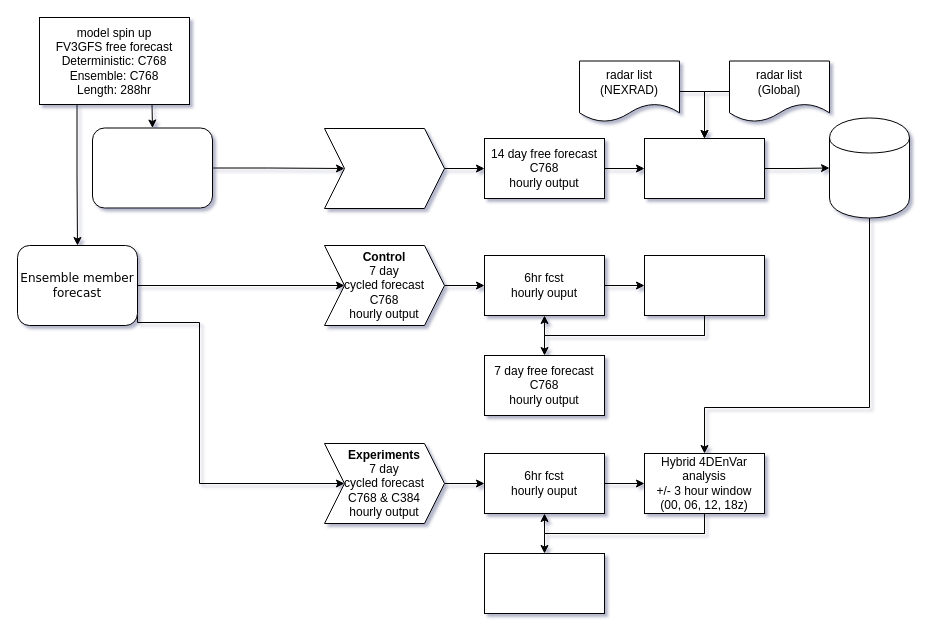
This 933x637 diagram has some shape labels left out. The shapes that lost their labels are listed below. From the top down, each one's centre as x and y in pixels, then its label:
[152,167]: Deterministic forecast
[384,168]: Nature (Truth) 14 day free forecast C768 hourly output
[704,168]: drwsim convert model out to observations
[869,167]: simulated radial wind obs (bufr)
[704,285]: 3DVar no observations (00, 06, 12, 18z)
[544,583]: 7 day free forecast C768 & C384 hourly output
